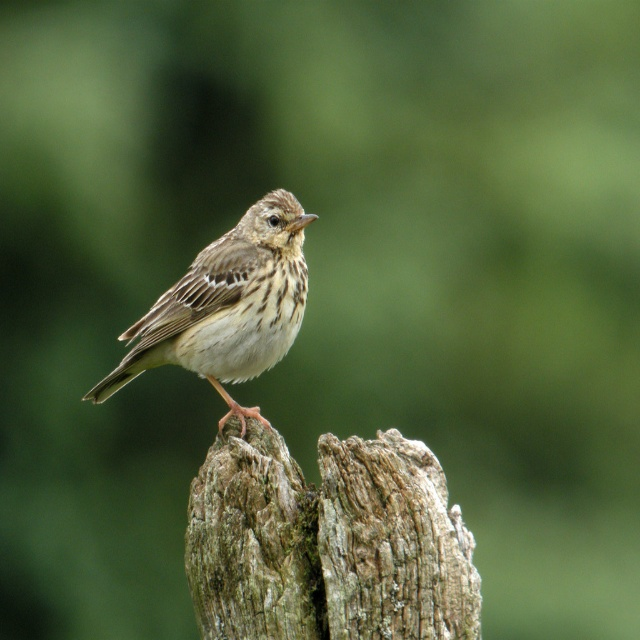Sparrow: (77, 188, 325, 445)
